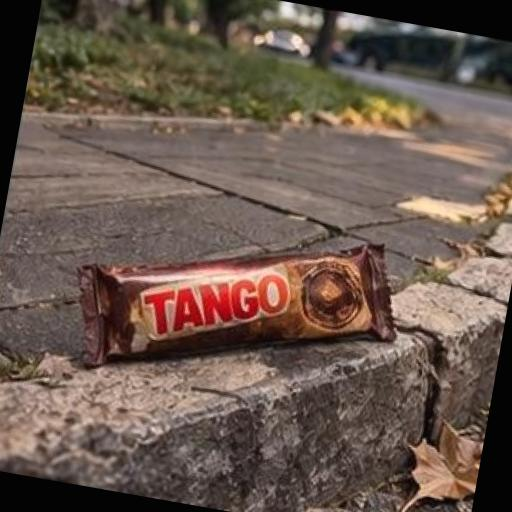tango: (46, 168, 433, 430)
